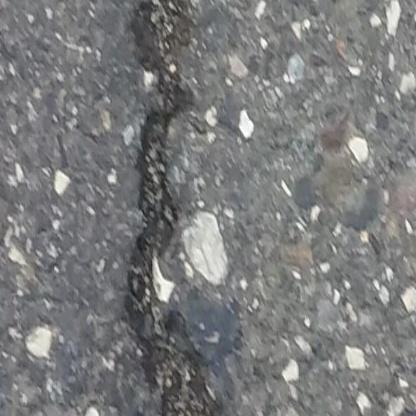Cracks: (116, 0, 228, 416)
